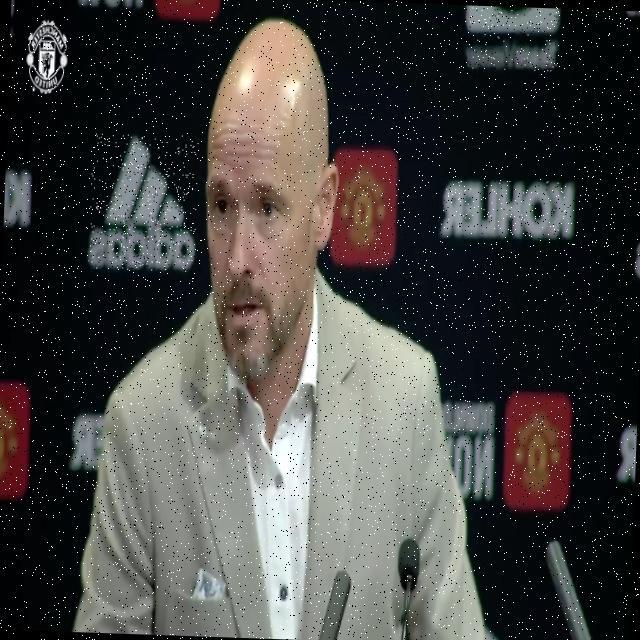Adidas: (88, 132, 199, 272)
Kohler: (439, 176, 574, 242)
TeamViewer: (464, 5, 559, 71)
